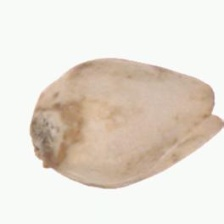L1: (202, 81, 223, 144), (29, 104, 49, 168)
L2: (29, 57, 222, 189)
